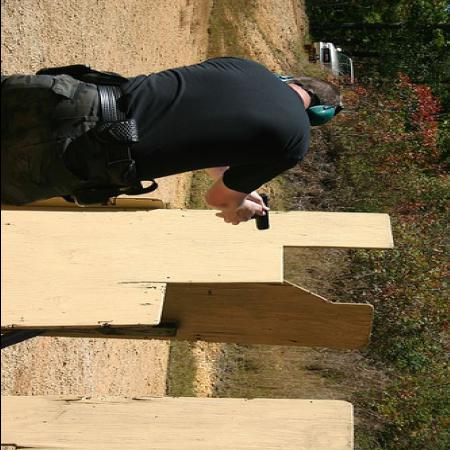Pistol: (244, 194, 272, 232)
